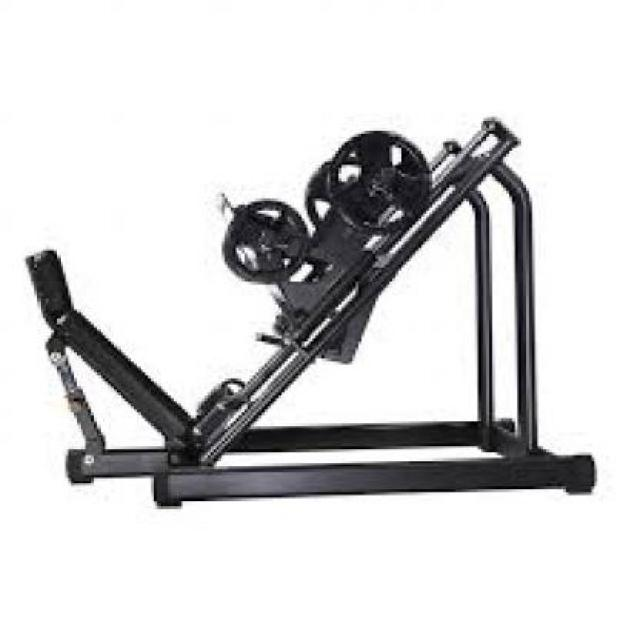leg press: (22, 109, 604, 526)
